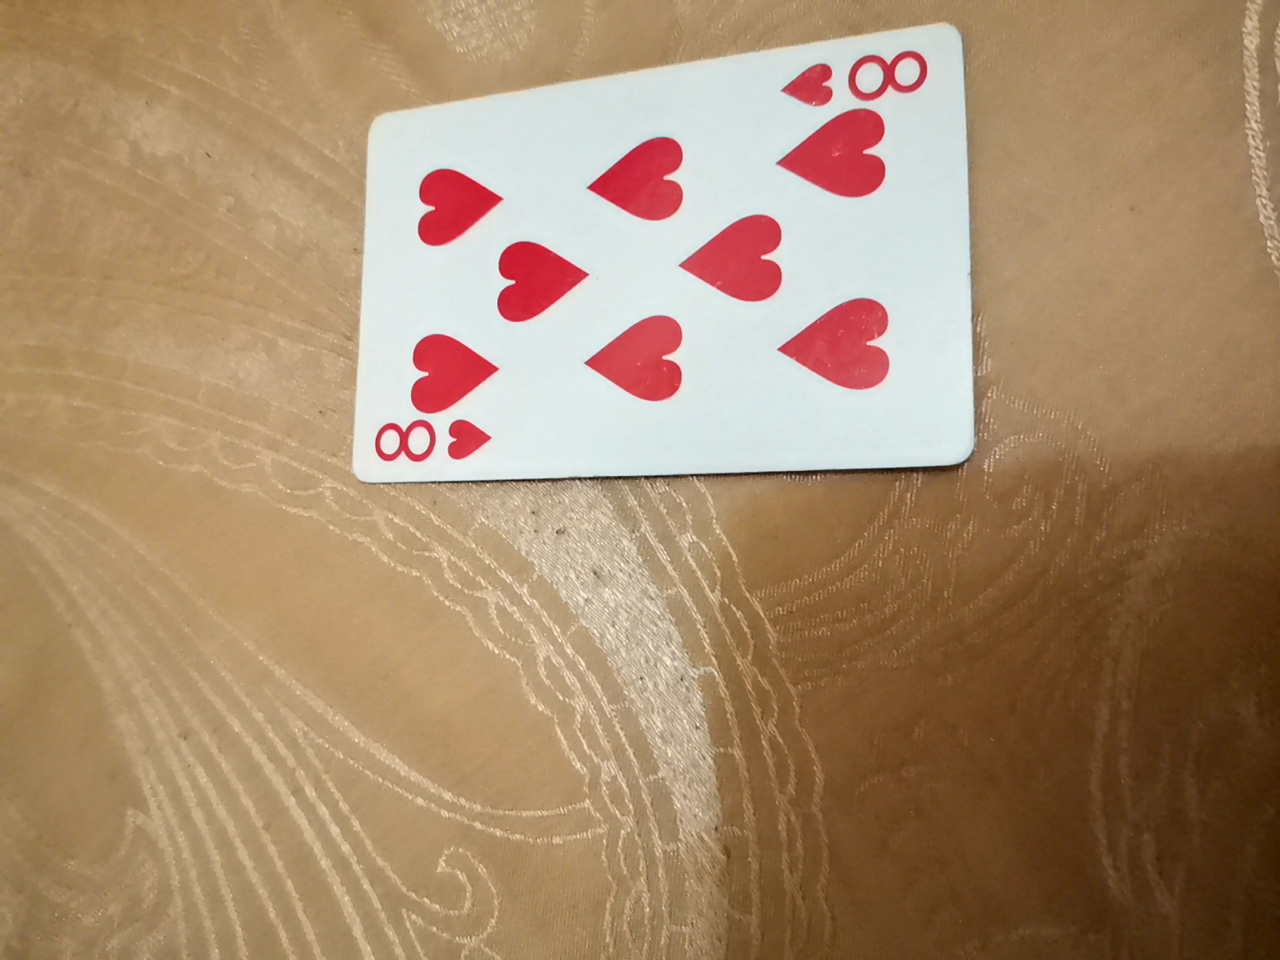hx 8: (342, 21, 948, 483)
